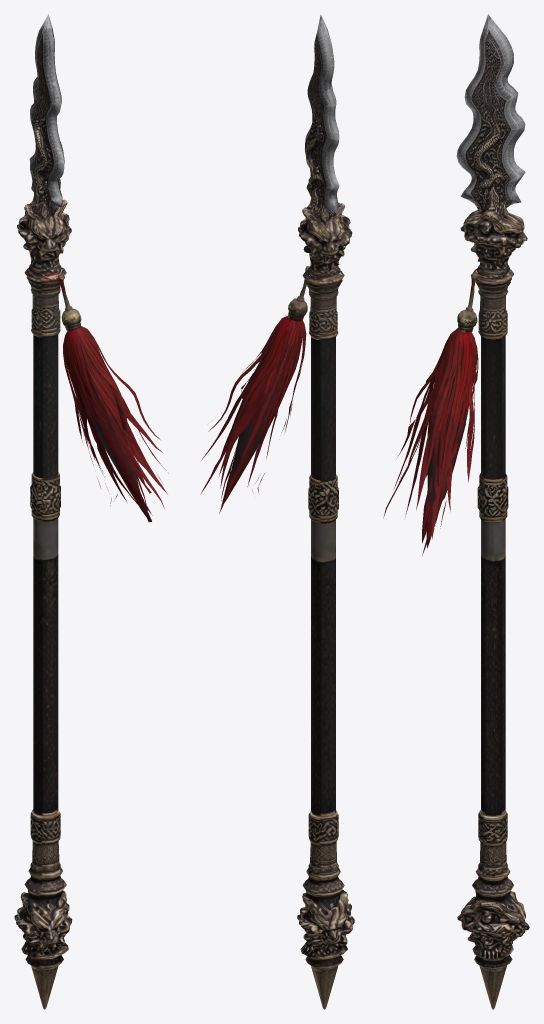
Rendered from serpent_spear.glb.
The picture shows the model from 3 angles, left to right: view 1: azimuth 30°, elevation 25°; view 2: azimuth 210°, elevation 25°; view 3: azimuth 270°, elevation 25°; orthographic projection.
Visible parts, largest first — view 1: b0e4c944_1f32_48b2_9a06_38696e1aa6e5; view 2: b0e4c944_1f32_48b2_9a06_38696e1aa6e5; view 3: b0e4c944_1f32_48b2_9a06_38696e1aa6e5.
Part boxes in pixels (bbox=[...]): b0e4c944_1f32_48b2_9a06_38696e1aa6e5: bbox=[14, 14, 168, 1009]; b0e4c944_1f32_48b2_9a06_38696e1aa6e5: bbox=[200, 14, 354, 1009]; b0e4c944_1f32_48b2_9a06_38696e1aa6e5: bbox=[383, 14, 529, 1009].
Bounding box in the file's own units: 0.127 × 1 × 0.1333.
Materials: 1 (1 with a texture image).
